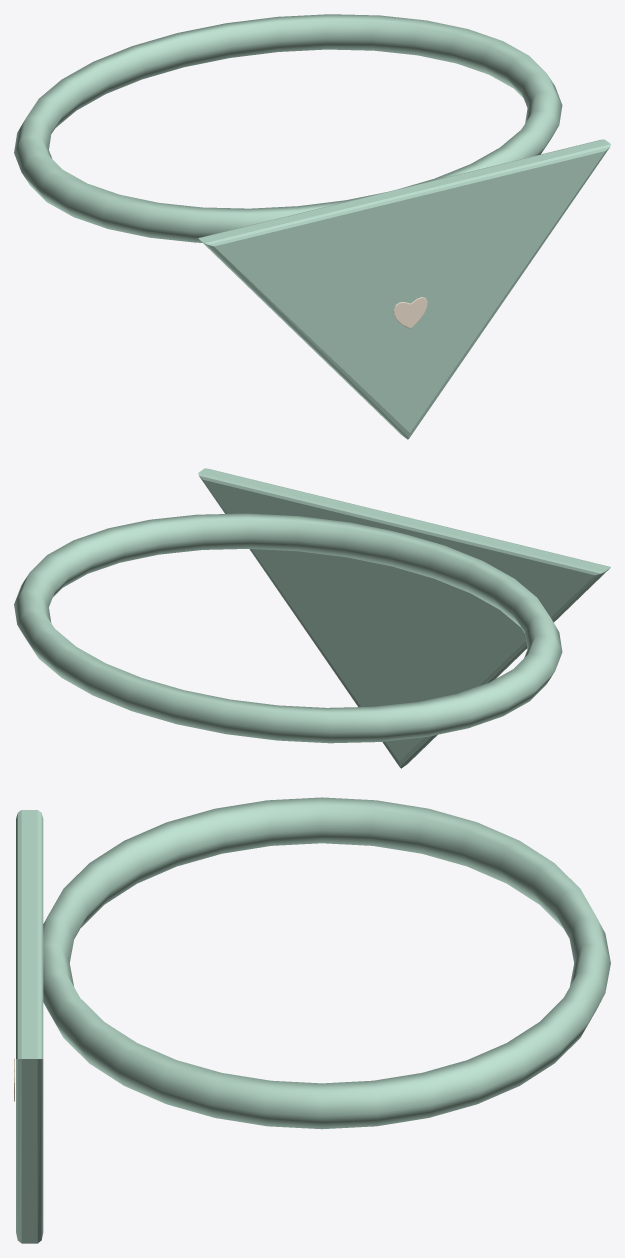
Rendered from bandana_sage.glb.
The picture shows the model from 3 angles, top to bottom: view 1: azimuth 30°, elevation 25°; view 2: azimuth 150°, elevation 25°; view 3: azimuth 270°, elevation 25°; orthographic projection. The views are drawn at different scales.
Visible parts, largest first — view 1: Pañuelo salvia; view 2: Pañuelo salvia; view 3: Pañuelo salvia.
Part boxes in pixels (<box>): Pañuelo salvia: <box>14,14,610,439</box>; Pañuelo salvia: <box>14,468,610,768</box>; Pañuelo salvia: <box>14,797,610,1243</box>.
Size of the model in its own units: 0.534 by 0.252 by 0.4412.
